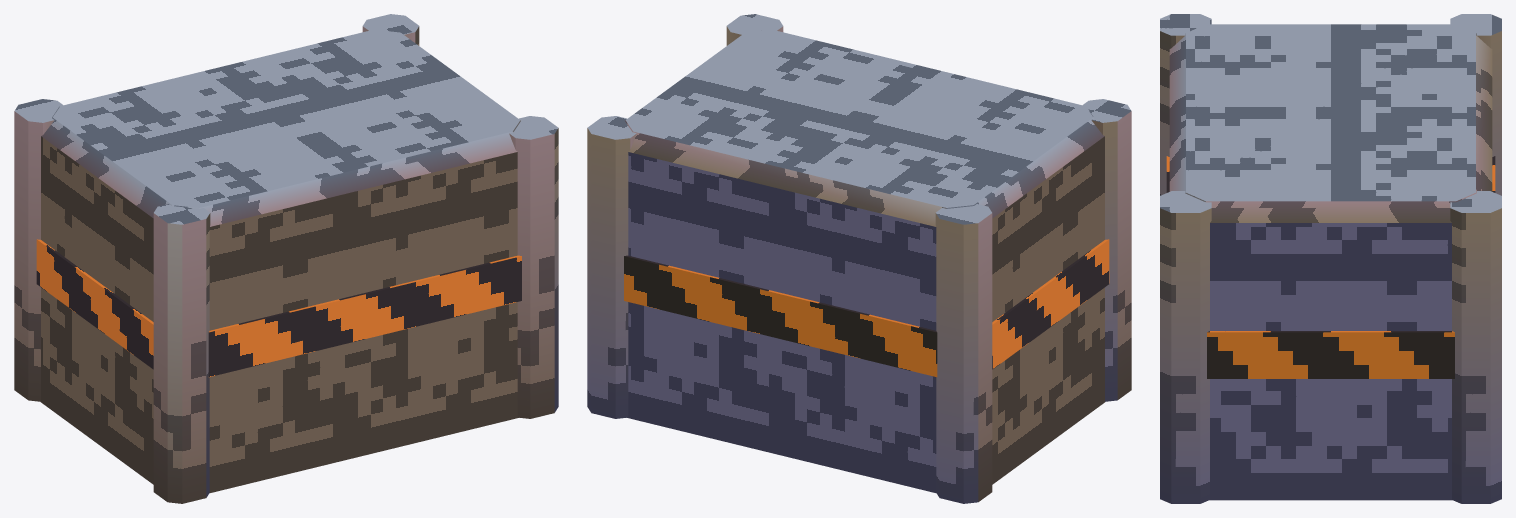
Rendered from tech.crate__large.glb.
3 renders of one model, left to right at view 1: azimuth 30°, elevation 25°; view 2: azimuth 150°, elevation 25°; view 3: azimuth 270°, elevation 25°, orthographic. The views are drawn at different scales.
Parts seen in each view (by area): view 1: kit_box, kit_corners, kit_band; view 2: kit_box, kit_corners, kit_band; view 3: kit_box, kit_corners, kit_band.
Boxes of the visible parts, box(x1,y1,x2,y2) form: kit_box: box(41, 29, 520, 492); kit_corners: box(14, 14, 558, 503); kit_band: box(36, 239, 521, 377); kit_box: box(625, 29, 1104, 492); kit_corners: box(587, 14, 1131, 503); kit_band: box(624, 239, 1109, 377); kit_box: box(1169, 24, 1492, 500); kit_corners: box(1160, 14, 1501, 503); kit_band: box(1166, 156, 1495, 378).
Size of the model in its own units: 1.46 by 1 by 1.06.
3 materials, 3 textured.
